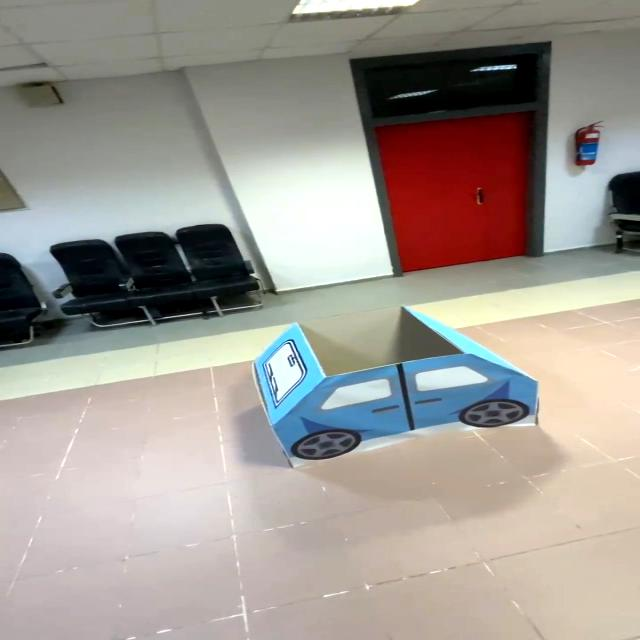blue_car: (219, 295, 559, 482)
